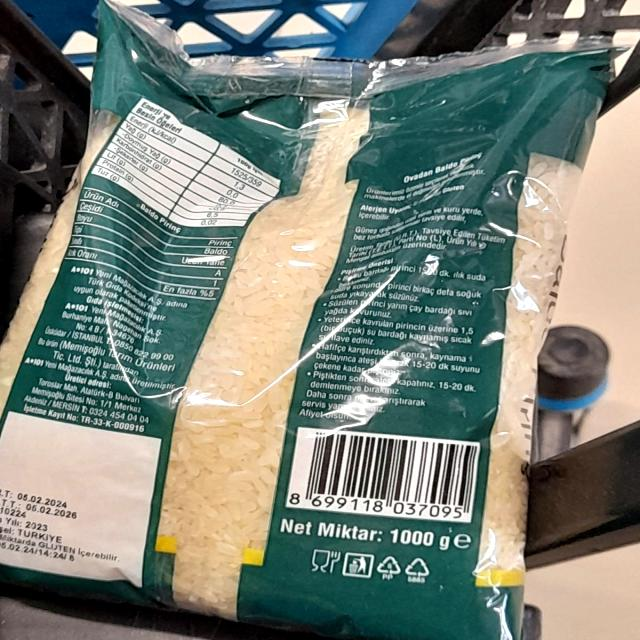rice: (26, 67, 602, 640)
